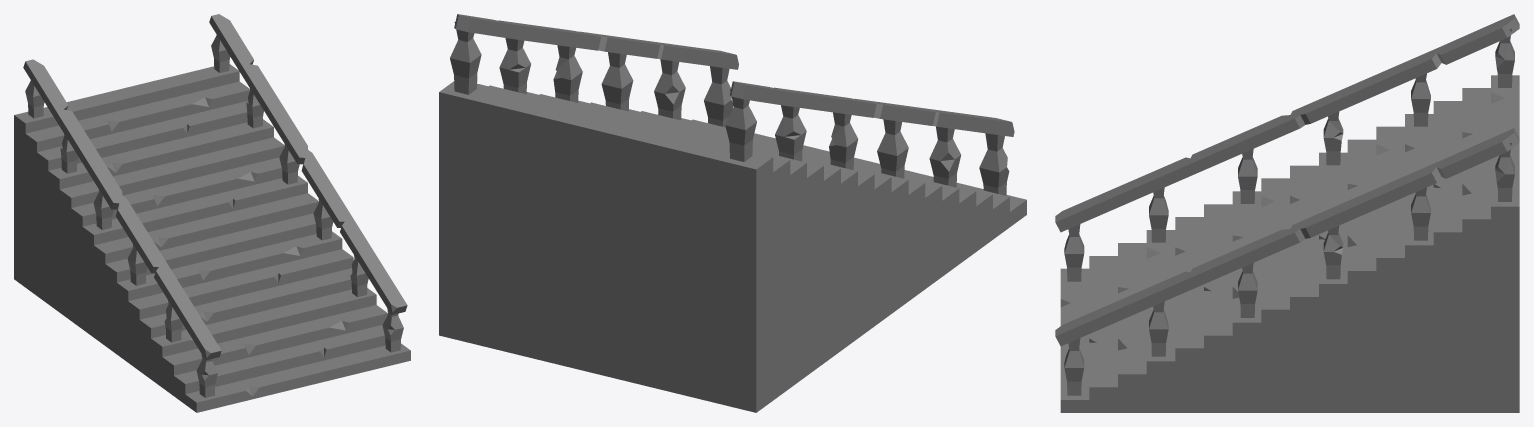
File: stone_stairs_complete.fbx
3 renders of one model, left to right at view 1: azimuth 30°, elevation 25°; view 2: azimuth 150°, elevation 25°; view 3: azimuth 270°, elevation 25°, orthographic. The views are drawn at different scales.
Visible parts, largest first — view 1: stone_stairs_complete; view 2: stone_stairs_complete; view 3: stone_stairs_complete.
Part boxes in pixels (bbox=[...]): stone_stairs_complete: bbox=[14, 14, 410, 412]; stone_stairs_complete: bbox=[439, 14, 1026, 412]; stone_stairs_complete: bbox=[1055, 14, 1519, 412].
Bounding box in the file's own units: 331 × 321 × 494.
